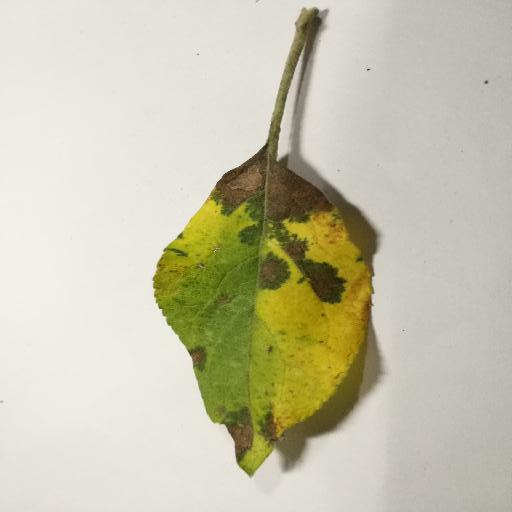Brown_Spot: (200, 153, 340, 226), (247, 230, 359, 305), (218, 403, 285, 452), (185, 347, 212, 374)
